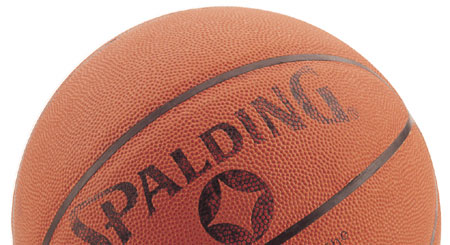basketball: (10, 7, 441, 245)
